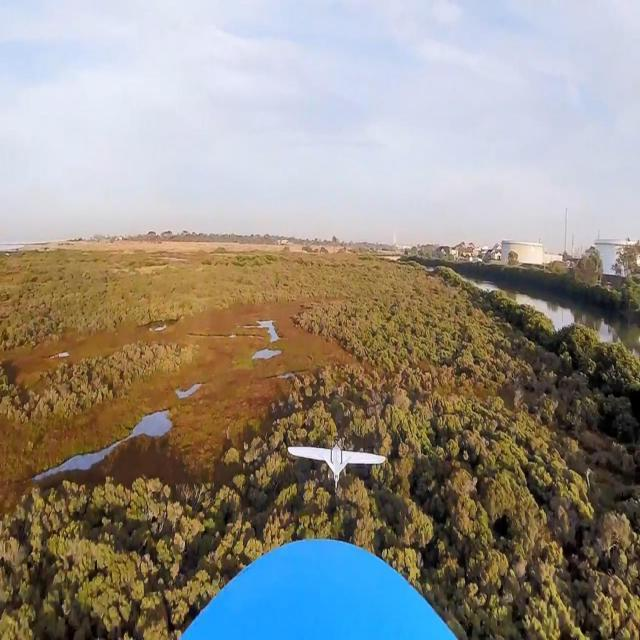iha: (312, 465, 357, 470)
